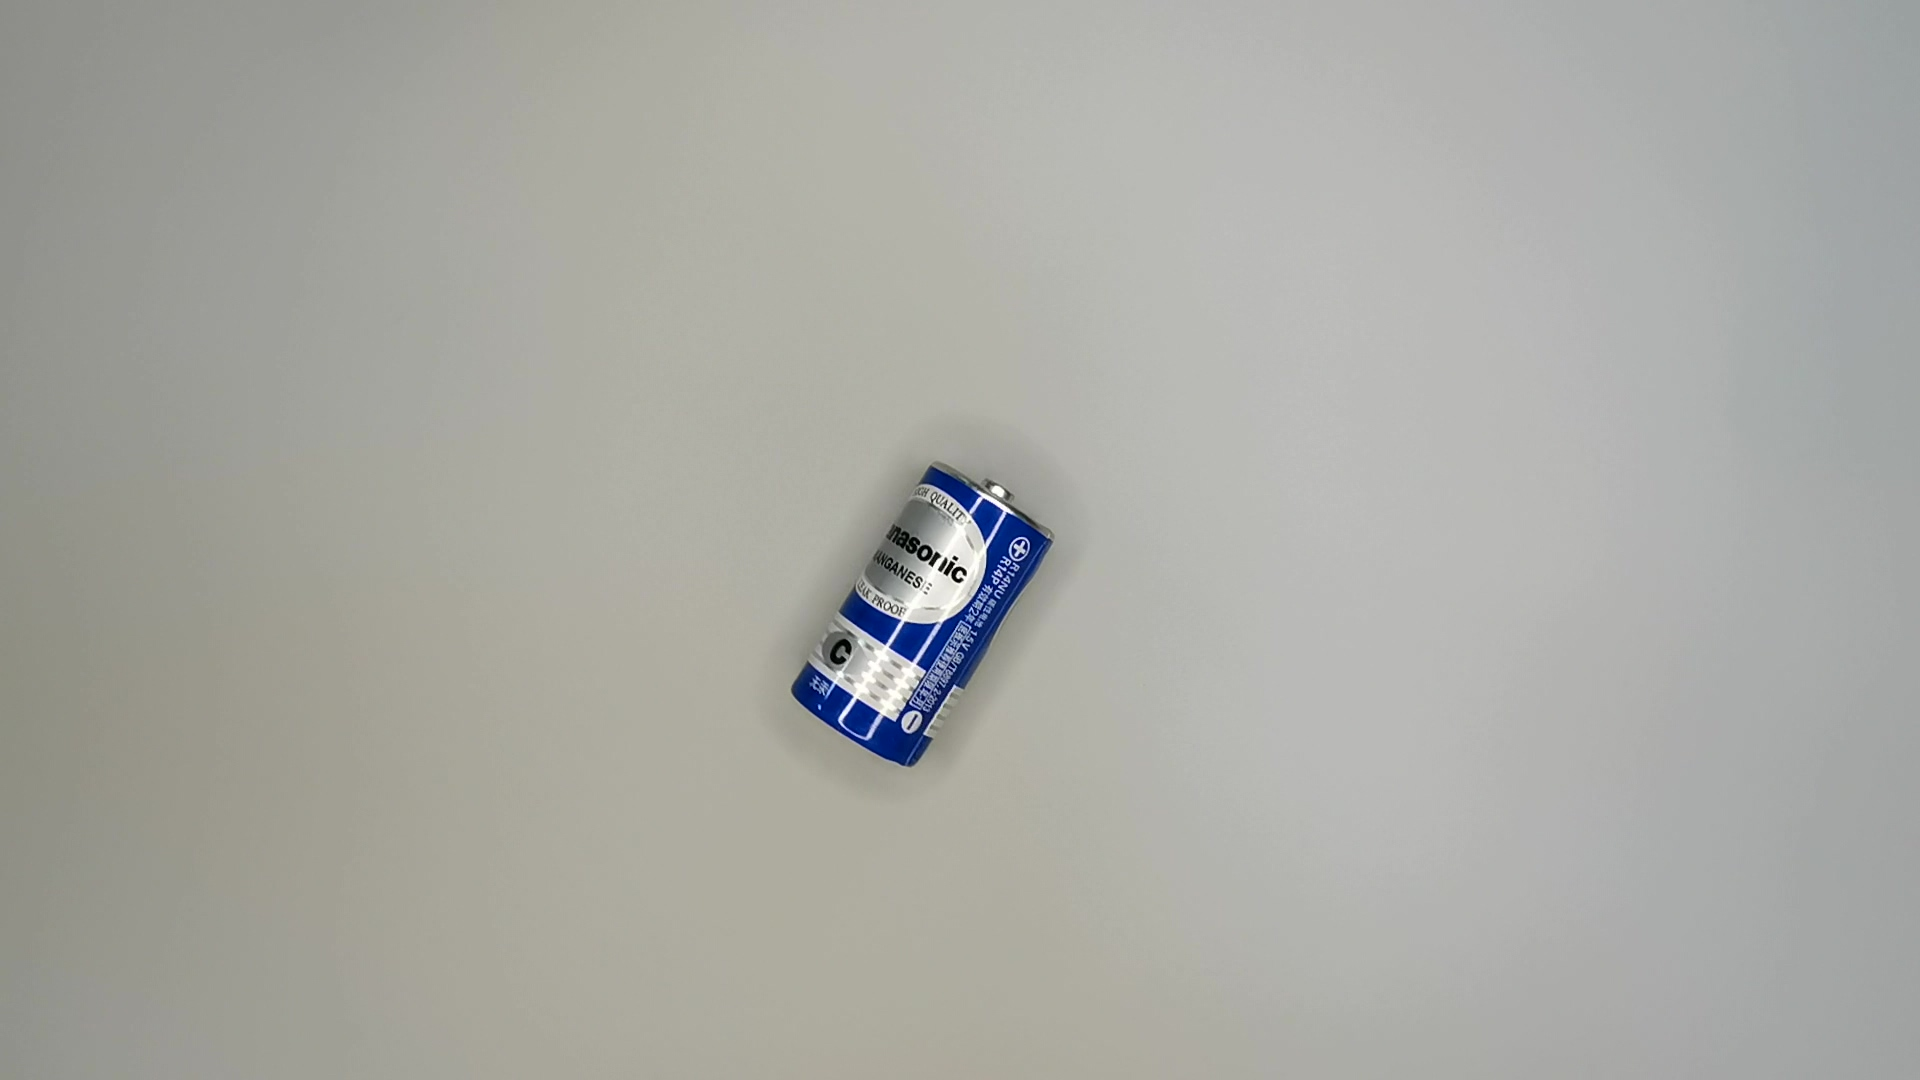battery: (785, 454, 1058, 765)
